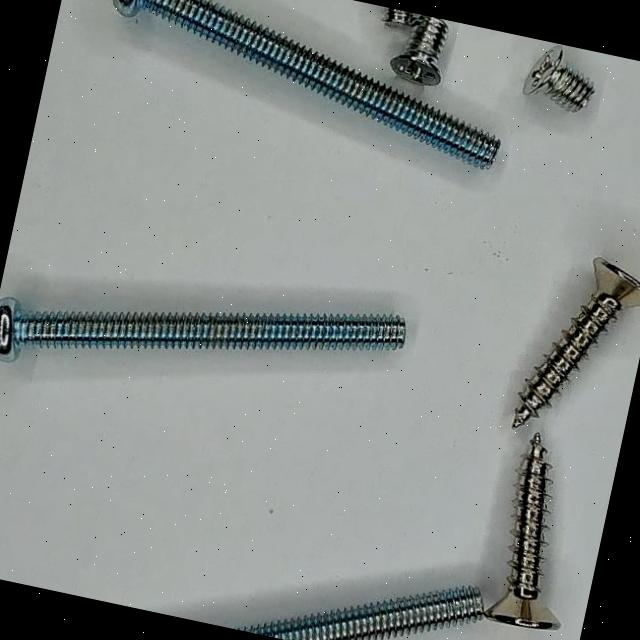Screw: (112, 0, 501, 168), (0, 297, 406, 362), (512, 259, 640, 429), (485, 434, 561, 631), (236, 587, 485, 640), (524, 45, 595, 111), (390, 15, 449, 84), (382, 7, 416, 25)
